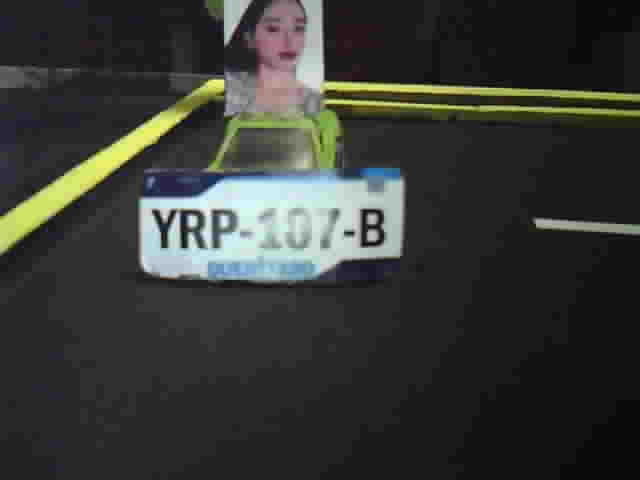PLACA: (135, 165, 407, 284)
ROSTRO: (226, 1, 321, 117)
